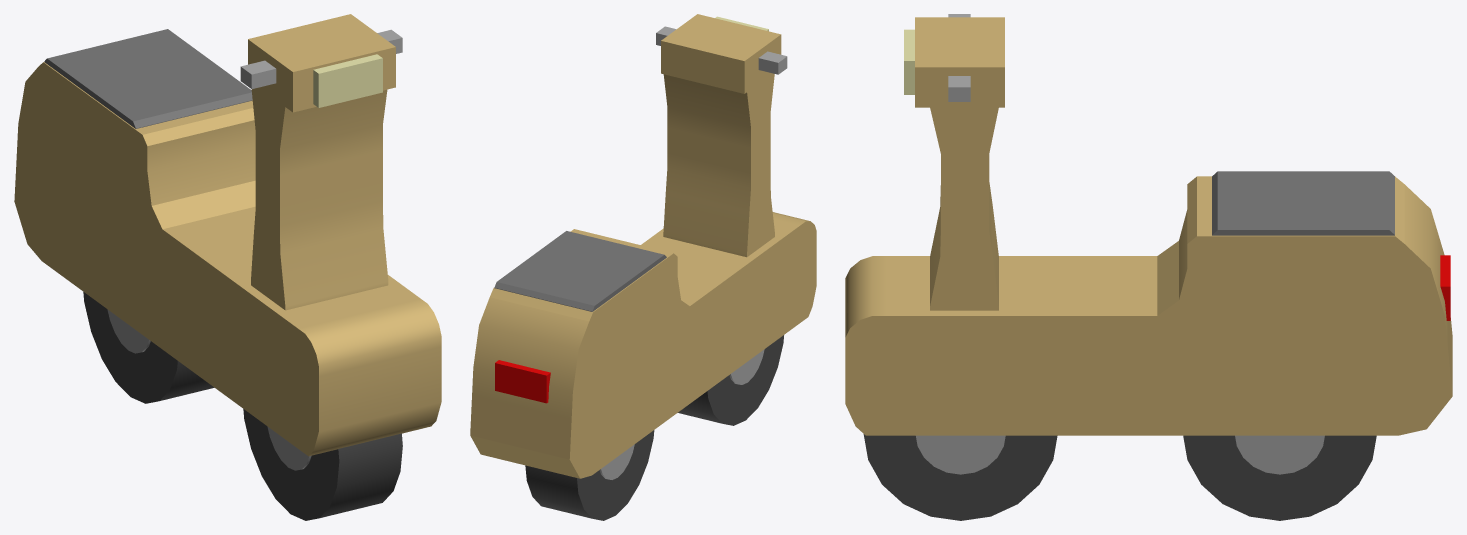
Rendered from Moped.fbx.
The picture shows the model from 3 angles, left to right: view 1: azimuth 30°, elevation 25°; view 2: azimuth 150°, elevation 25°; view 3: azimuth 270°, elevation 25°; orthographic projection. The views are drawn at different scales.
Parts seen in each view (by area): view 1: polySurface2; view 2: polySurface2; view 3: polySurface2.
Part boxes in pixels (x1=…): polySurface2: x1=14, y1=14, x2=441, y2=520; polySurface2: x1=470, y1=14, x2=816, y2=520; polySurface2: x1=845, y1=14, x2=1452, y2=520.
Bounding box in the file's own units: 0.9498 × 2.79 × 3.32.
